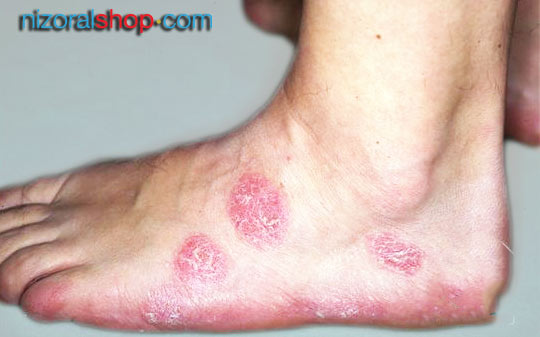Eczema: (138, 163, 438, 320)
